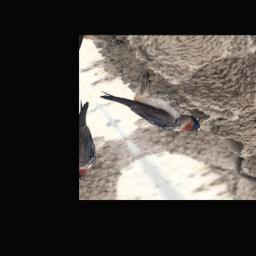Swallow: (94, 66, 208, 157)
